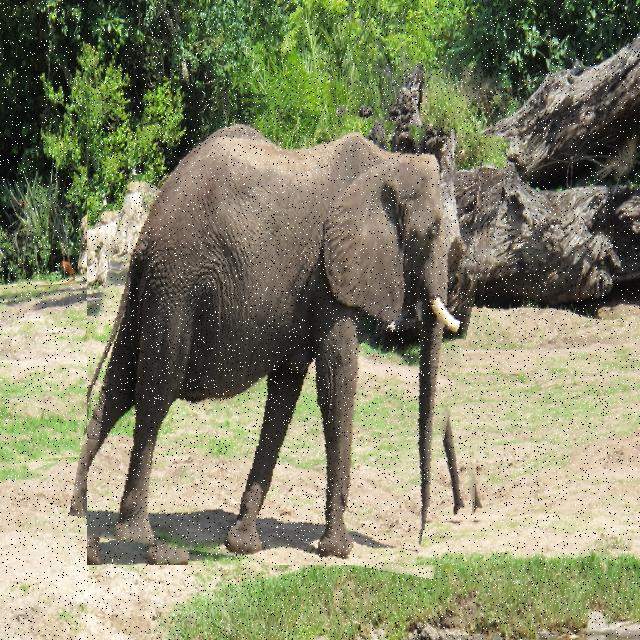elephant: (86, 89, 492, 565)
